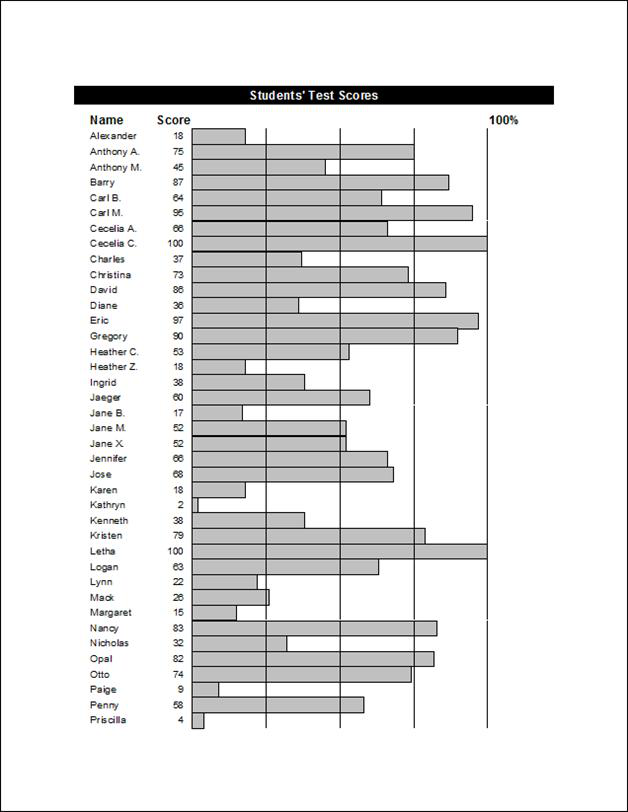canvas: (199, 113, 485, 733)
data: (84, 106, 188, 732)
title: (228, 84, 395, 103)
